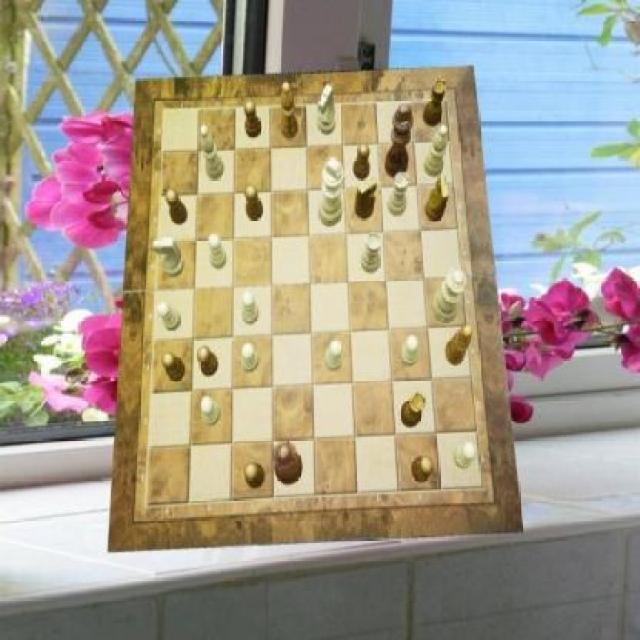bishop: (446, 324, 474, 364), (280, 82, 299, 139)
black-bishop: (386, 103, 414, 178)
black-king: (424, 176, 448, 222), (354, 177, 377, 219)
black-knight: (166, 189, 189, 224), (162, 351, 186, 382), (244, 184, 264, 220), (244, 100, 262, 138), (197, 346, 218, 377), (354, 144, 371, 180), (412, 456, 435, 482), (244, 463, 266, 489)
black-pawn: (272, 440, 302, 485)
black-queen: (423, 78, 446, 128), (400, 392, 426, 428)
black-rook: (200, 125, 225, 179), (424, 125, 448, 177)
white-bishop: (318, 157, 344, 226)
white-king: (153, 238, 184, 278), (317, 84, 336, 136)
white-knight: (157, 302, 181, 331), (208, 234, 227, 270), (454, 443, 476, 471), (200, 396, 220, 426), (242, 289, 259, 324), (402, 335, 419, 368), (325, 340, 342, 372), (242, 342, 259, 372)
white-pawn: (431, 268, 467, 324)
white-queen: (386, 171, 409, 216), (360, 234, 382, 274)
